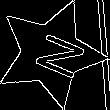N_NW: (19, 25, 83, 82)
